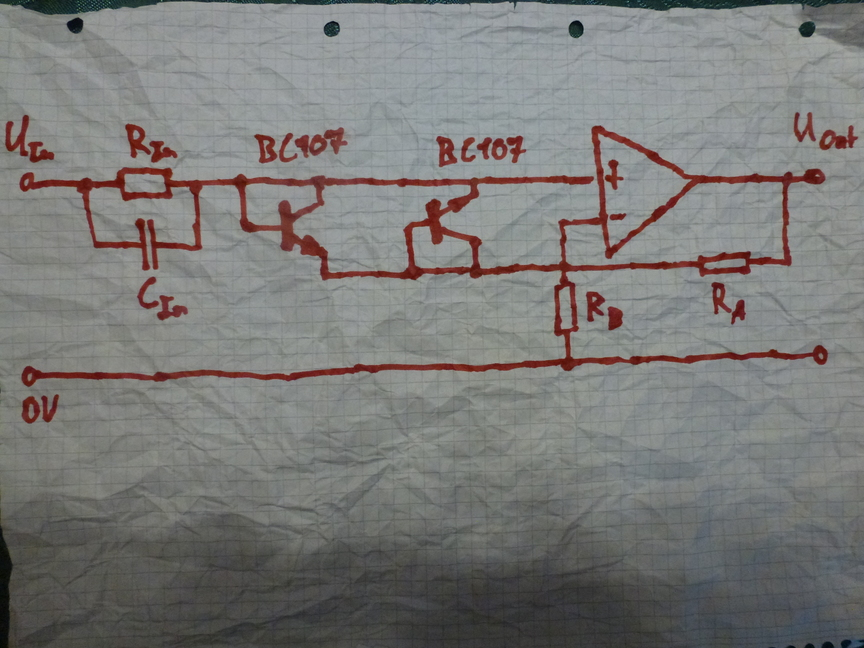capacitor.unpolarized: (131, 216, 168, 274)
junction: (75, 175, 96, 197), (402, 264, 424, 282), (186, 176, 205, 196), (231, 172, 250, 191), (309, 173, 328, 191), (237, 218, 257, 235), (559, 355, 577, 373), (468, 262, 485, 281), (779, 254, 795, 271), (779, 170, 795, 187), (556, 259, 572, 274), (317, 269, 333, 282), (191, 240, 205, 254), (90, 238, 103, 252), (555, 217, 569, 229), (466, 175, 480, 187), (402, 221, 416, 233)
operational_amplifier: (589, 123, 698, 261)
resistor: (113, 165, 176, 202), (696, 249, 754, 279), (552, 280, 581, 337)
terminal: (810, 343, 831, 367), (802, 167, 828, 186), (17, 170, 37, 194), (20, 363, 39, 387)
text: (252, 125, 351, 165), (433, 133, 528, 169), (791, 110, 860, 152), (3, 113, 57, 165), (135, 275, 190, 324), (123, 121, 179, 164), (709, 279, 749, 326), (583, 289, 625, 333), (19, 392, 62, 426)
transistor: (424, 191, 483, 249), (277, 198, 331, 260)
